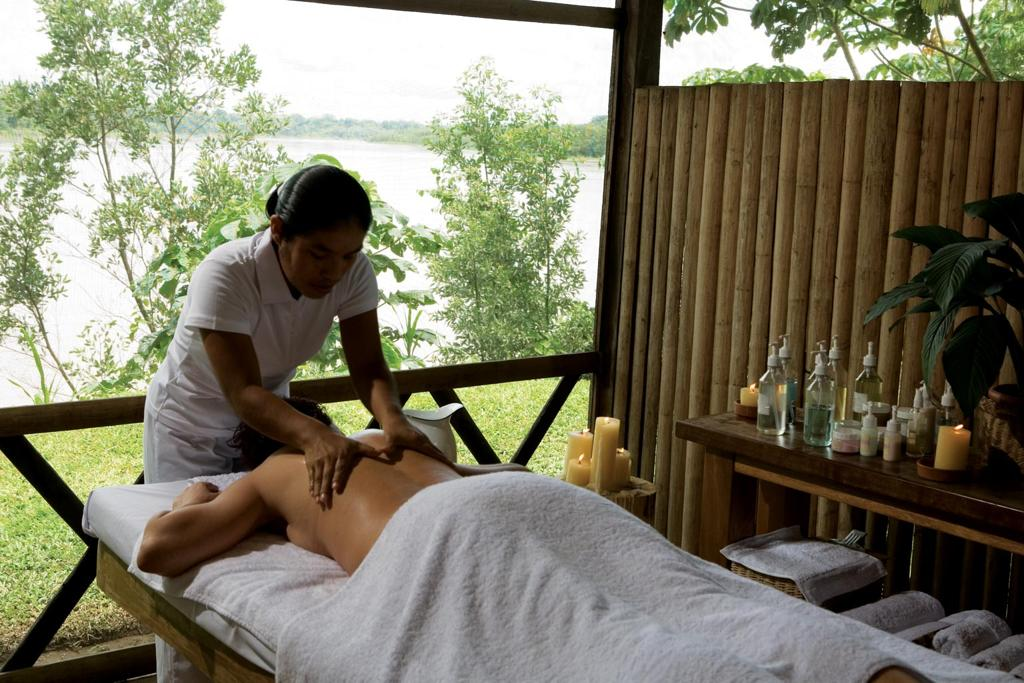face: (290, 220, 366, 300)
